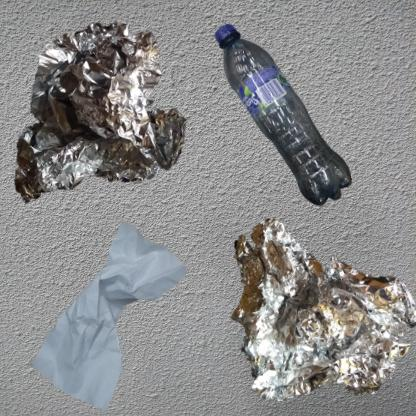aluminio: (213, 213, 416, 416), (10, 10, 200, 223)
botella: (213, 10, 362, 229)
papel: (10, 213, 211, 416)
